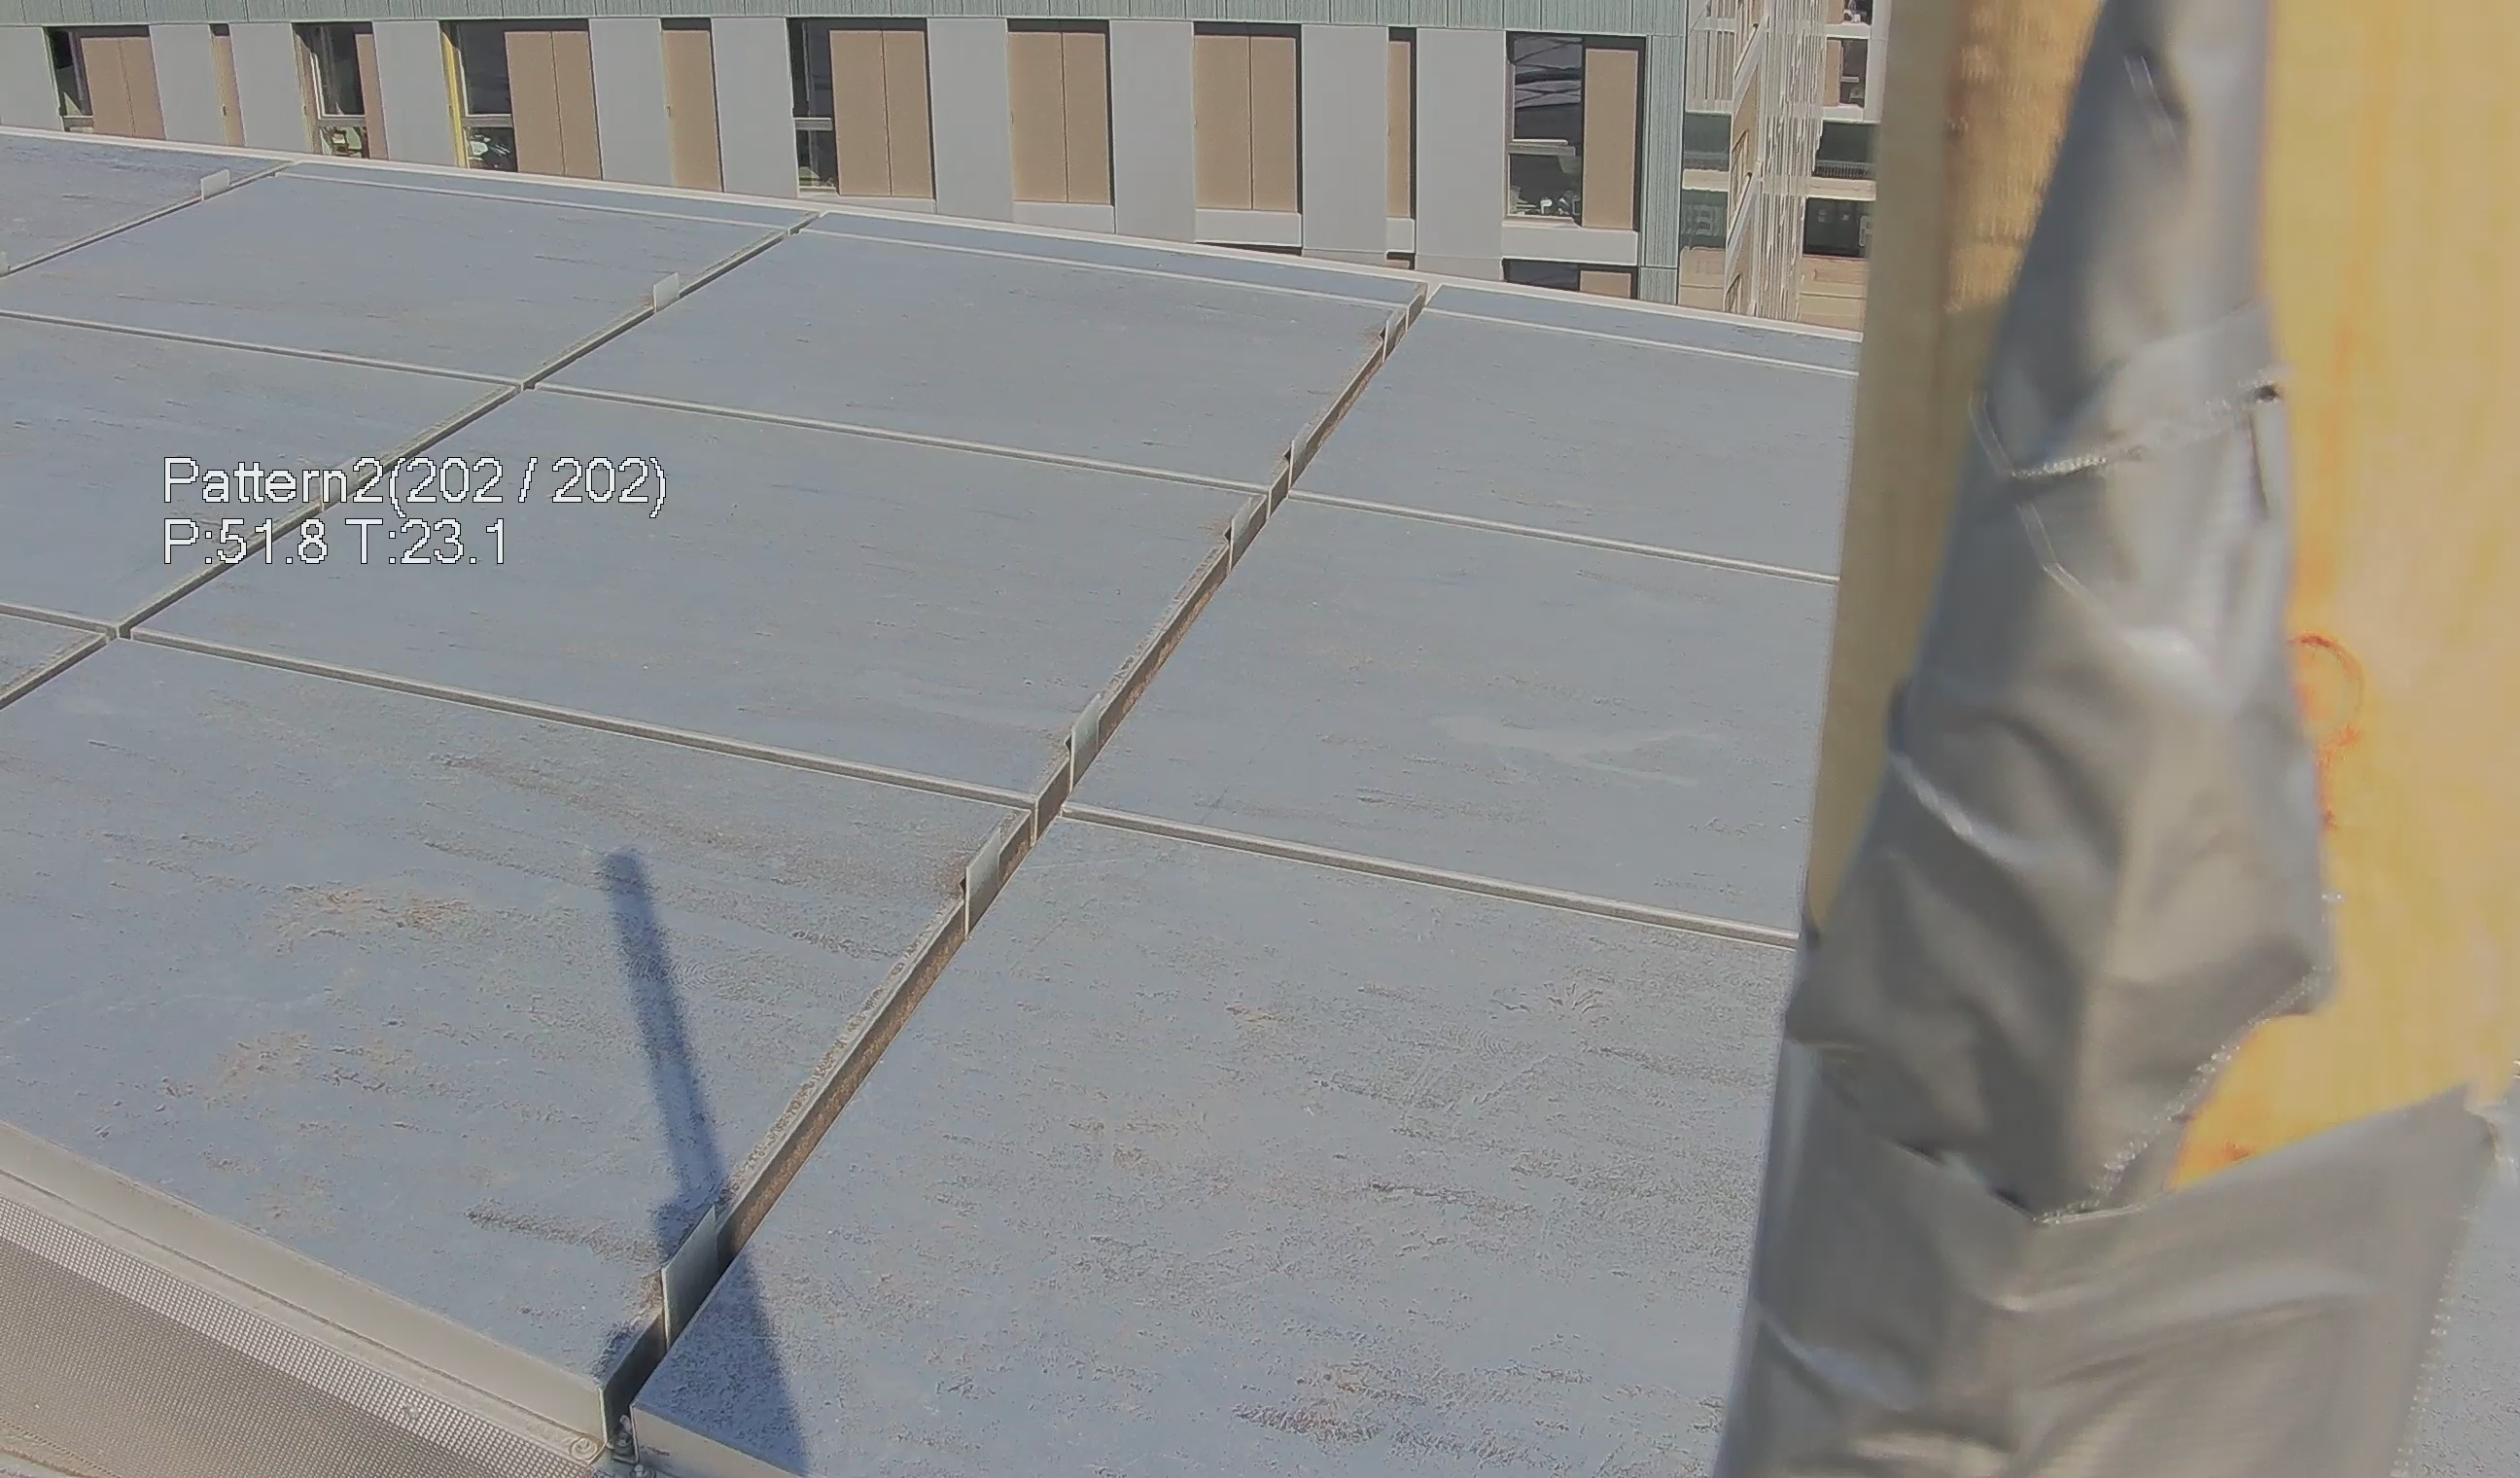Other: (1790, 0, 2473, 1406)
